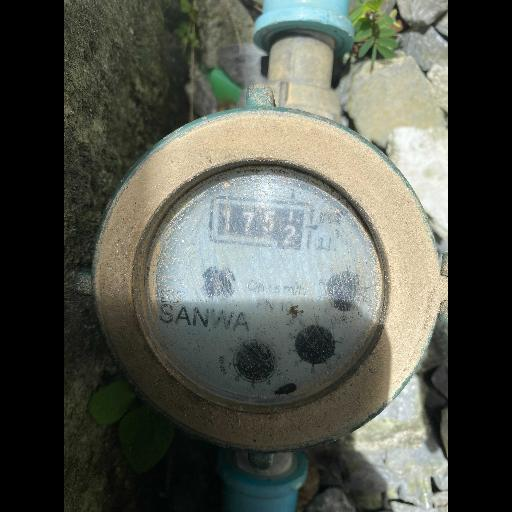1: (217, 203, 239, 235)
2: (277, 208, 304, 250)
5: (258, 206, 280, 239)
7: (238, 205, 261, 238)
border_water_meter_number: (208, 196, 314, 253)
